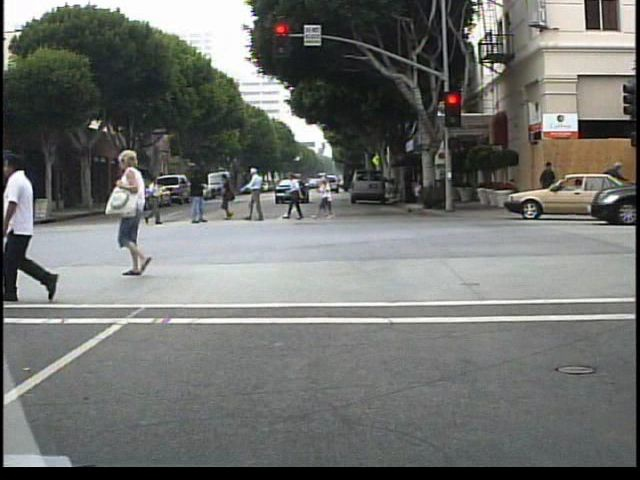person: (38, 152, 109, 299), (108, 150, 169, 280), (243, 166, 274, 222), (182, 168, 210, 228), (600, 155, 624, 213), (216, 169, 241, 224), (286, 169, 310, 223), (145, 171, 166, 226), (538, 157, 558, 212), (4, 183, 24, 235), (18, 194, 39, 239)
